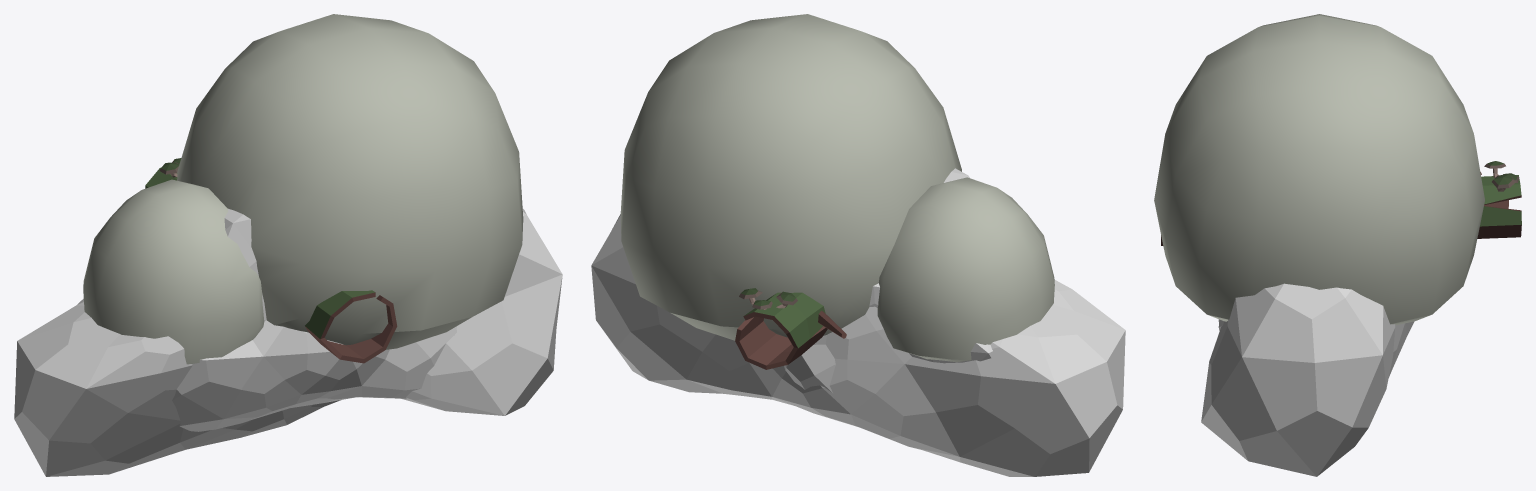
The model's file is highland_rocks_and_clouds.glb.
3 renders of one model, left to right at view 1: azimuth 30°, elevation 25°; view 2: azimuth 150°, elevation 25°; view 3: azimuth 270°, elevation 25°, orthographic. The views are drawn at different scales.
Parts seen in each view (by area): view 1: CumulusClusterC, CumulusClusterB, CumulusClusterA, MossLog; view 2: CumulusClusterC, CumulusClusterB, MossLog, CumulusClusterA; view 3: CumulusClusterC, CumulusClusterB, MossLog.
Boxes of the visible parts, left/top/right/bottom form: CumulusClusterC: left=83, top=14, right=523, bottom=364; CumulusClusterB: left=14, top=208, right=562, bottom=476; CumulusClusterA: left=77, top=299, right=456, bottom=431; MossLog: left=145, top=158, right=397, bottom=363; CumulusClusterC: left=620, top=14, right=1054, bottom=362; CumulusClusterB: left=591, top=168, right=1125, bottom=476; MossLog: left=735, top=288, right=846, bottom=369; CumulusClusterA: left=784, top=283, right=993, bottom=392; CumulusClusterC: left=1154, top=14, right=1484, bottom=325; CumulusClusterB: left=1201, top=283, right=1414, bottom=476; MossLog: left=1161, top=161, right=1521, bottom=245.
Bounding box in the file's own units: 4.26 × 3.01 × 2.72.
